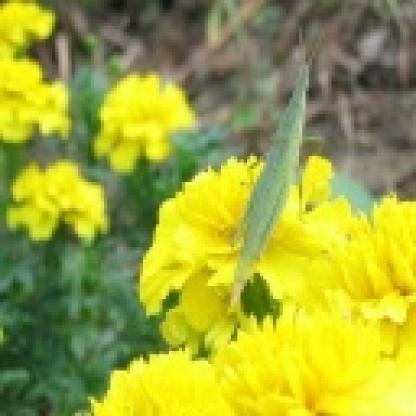grasshopper: (232, 28, 324, 289)
